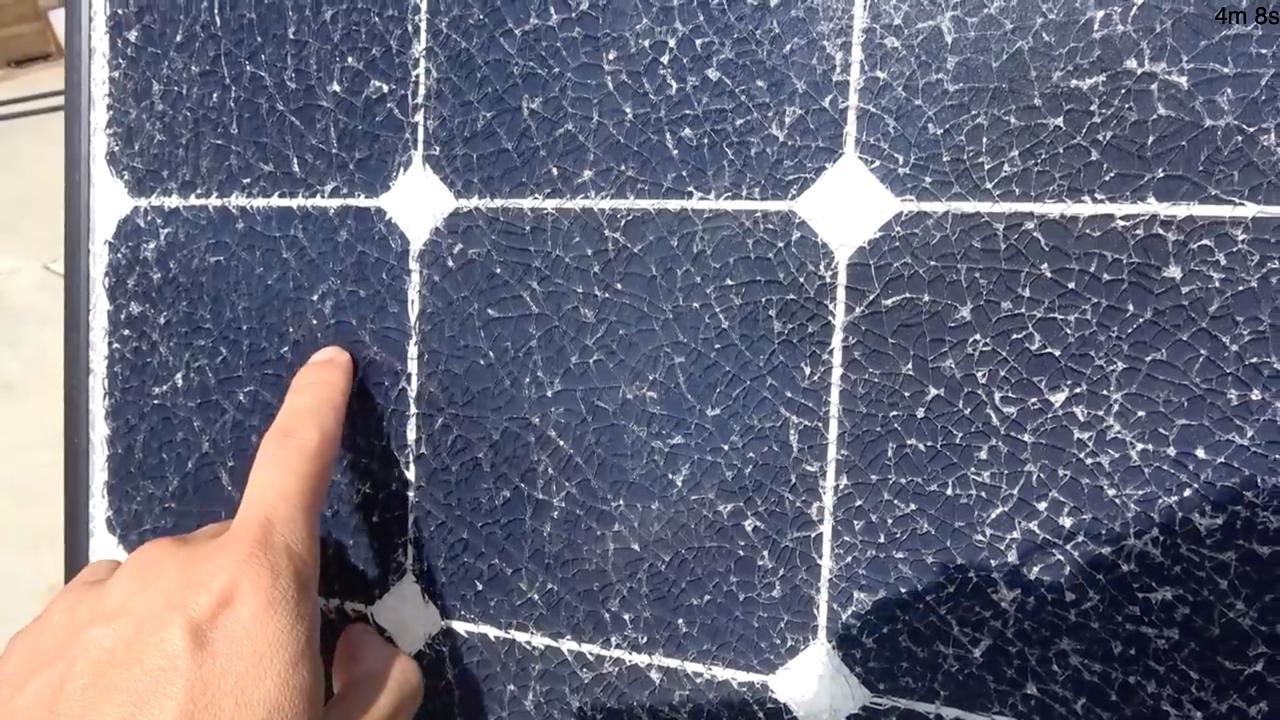Crack: (812, 7, 1280, 698)
